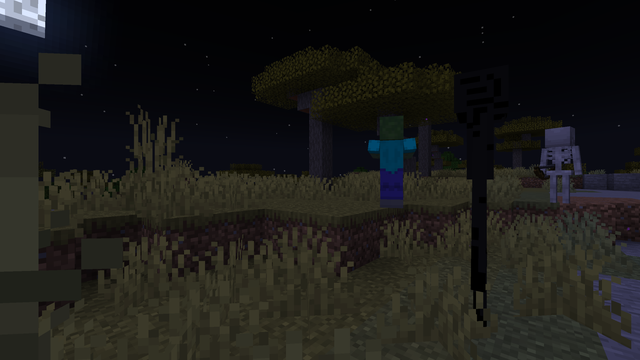endermens: (445, 52, 513, 340)
squelettes: (544, 126, 575, 204)
zombies: (373, 116, 409, 208)
